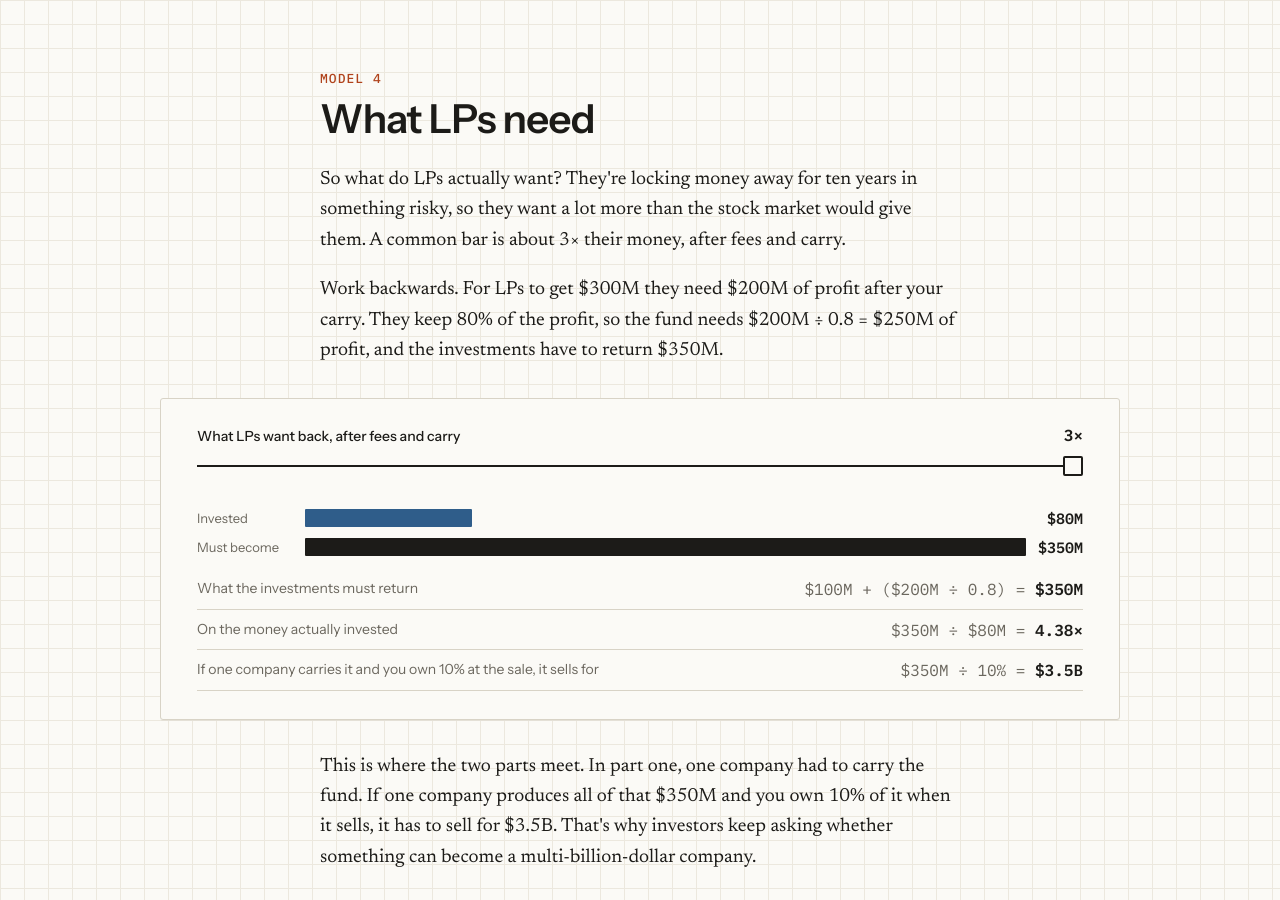
Test: Part two, model 4: what LPs need › moves with the target
Set the slider labelled "What LPs want back, after fees and carry" to "1" at [640, 466], box [197,452,1083,480]
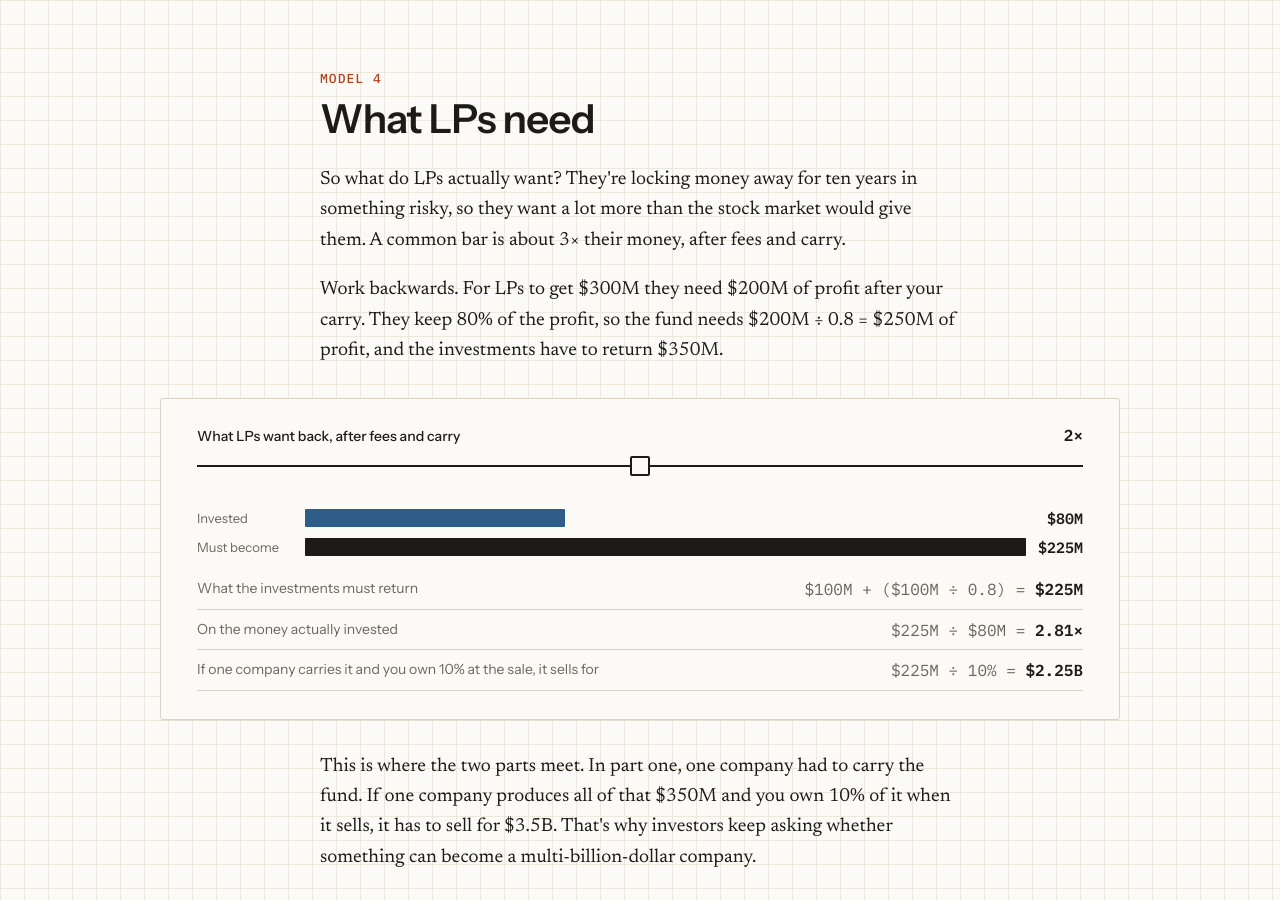
Check: the element with test id "f4-R" reads "$100M + ($100M ÷ 0.8) = $225M", box [804,579,1083,600]
Check: the element with test id "f4-gross" reads "$225M ÷ $80M = 2.81×", box [891,620,1083,641]
Check: the element with test id "f4-sale" reads "$225M ÷ 10% = $2.25B", box [891,660,1083,682]
